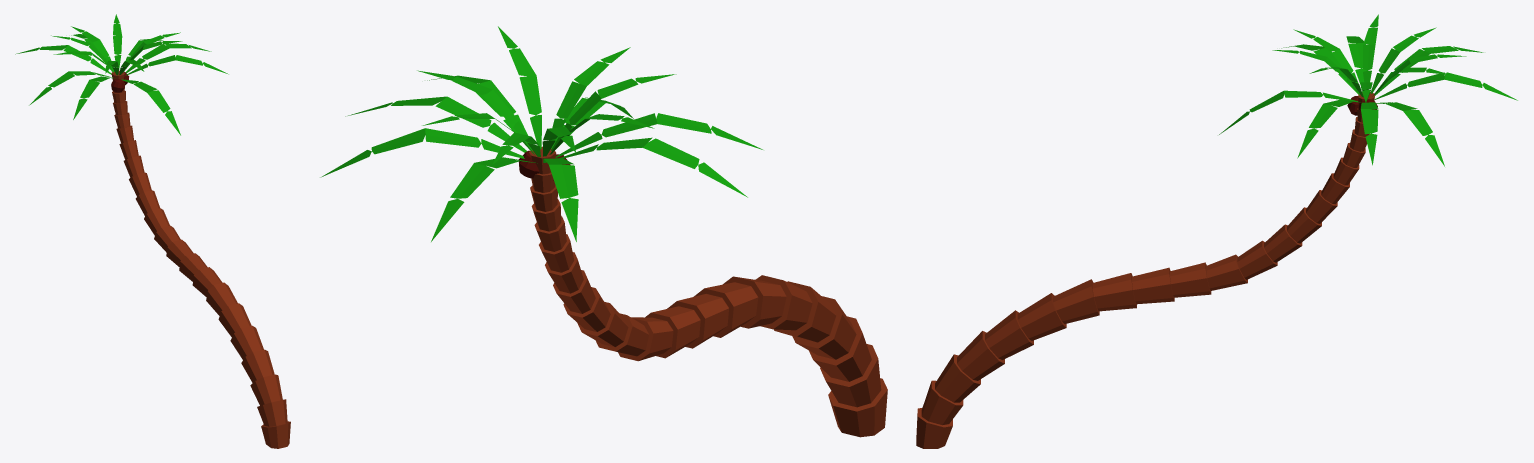
Rendered from palm_tree_1.obj.
3 views of the same model, side by side, from view 1: azimuth 30°, elevation 25°; view 2: azimuth 150°, elevation 25°; view 3: azimuth 270°, elevation 25° (orthographic). The views are drawn at different scales.
Parts seen in each view (by area): view 1: Cube, Plane.001_Plane, Plane.002_Plane.001; view 2: Cube, Plane.001_Plane, Plane.002_Plane.001; view 3: Cube, Plane.001_Plane, Plane.002_Plane.001.
Part boxes in pixels (box(x1,y1,x2,y2)): Cube: box(111, 70, 290, 448); Plane.001_Plane: box(15, 14, 228, 135); Plane.002_Plane.001: box(21, 16, 223, 133); Cube: box(529, 146, 887, 437); Plane.001_Plane: box(320, 26, 762, 241); Plane.002_Plane.001: box(326, 32, 759, 239); Cube: box(916, 92, 1374, 448); Plane.001_Plane: box(1219, 14, 1517, 166); Plane.002_Plane.001: box(1230, 20, 1516, 161).
Size of the model in its own units: 21.22 by 30.54 by 41.96.
